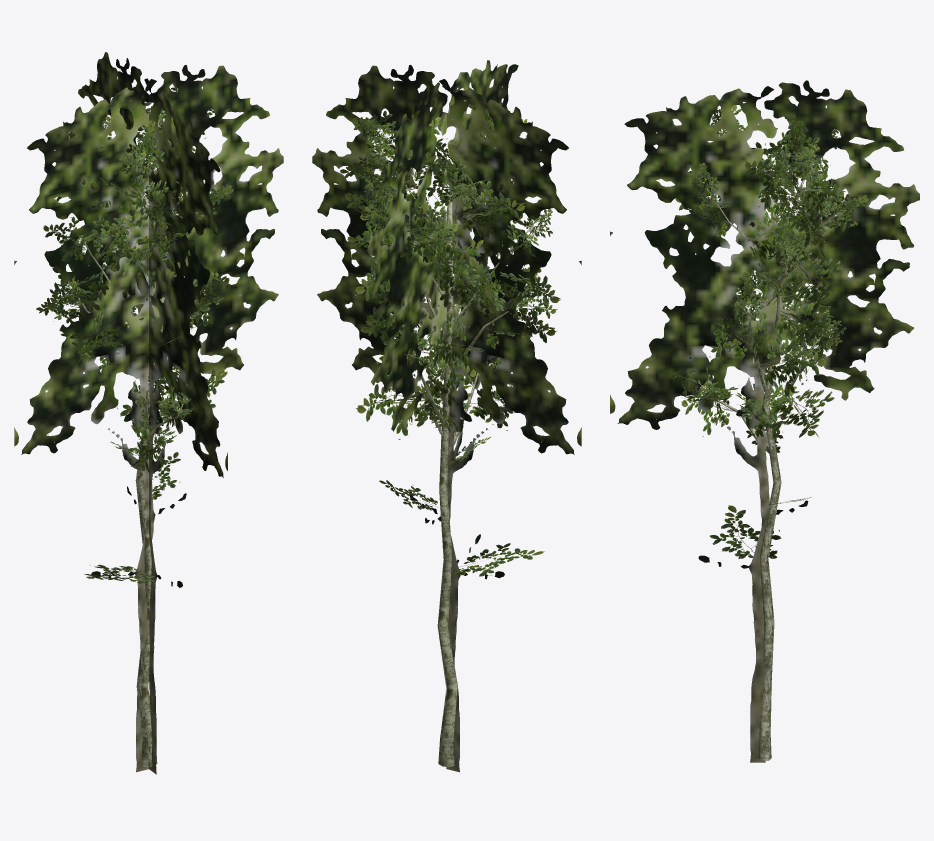
The model's file is Tree-Beech0A-mobile.fbx.
3 renders of one model, left to right at view 1: azimuth 30°, elevation 25°; view 2: azimuth 150°, elevation 25°; view 3: azimuth 270°, elevation 25°, orthographic.
Visible parts, largest first — view 1: Billboard-BeechA, Tree-Beech0A-mobile_LOD0; view 2: Billboard-BeechA, Tree-Beech0A-mobile_LOD0; view 3: Billboard-BeechA, Tree-Beech0A-mobile_LOD0.
Part boxes in pixels (bbox=[...]): Billboard-BeechA: bbox=[14, 52, 283, 774]; Tree-Beech0A-mobile_LOD0: bbox=[36, 84, 233, 767]; Billboard-BeechA: bbox=[312, 60, 581, 772]; Tree-Beech0A-mobile_LOD0: bbox=[340, 105, 560, 767]; Billboard-BeechA: bbox=[610, 80, 919, 762]; Tree-Beech0A-mobile_LOD0: bbox=[671, 105, 867, 760].
Size of what is drawn, in the model's own units: 1071 by 2649 by 1088.
